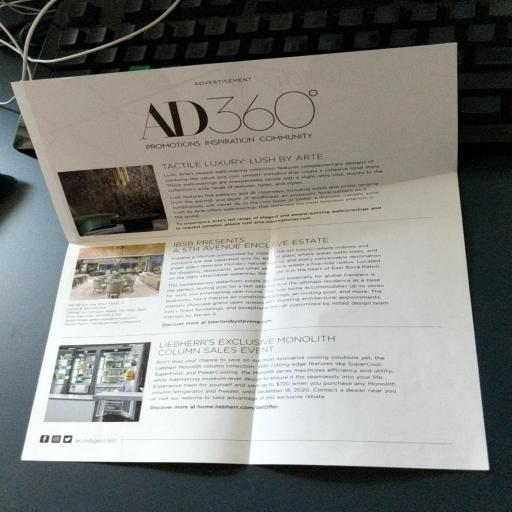paper: (0, 33, 497, 512)
